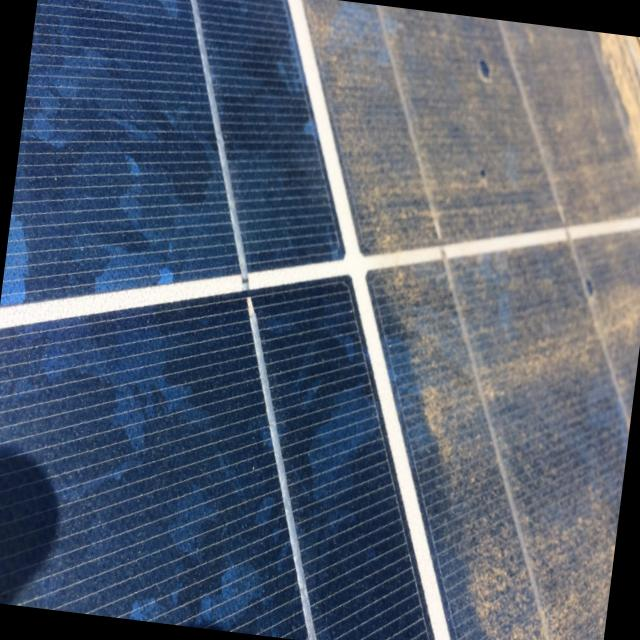faulty: (308, 0, 640, 640)
no faulty: (0, 0, 429, 640)
